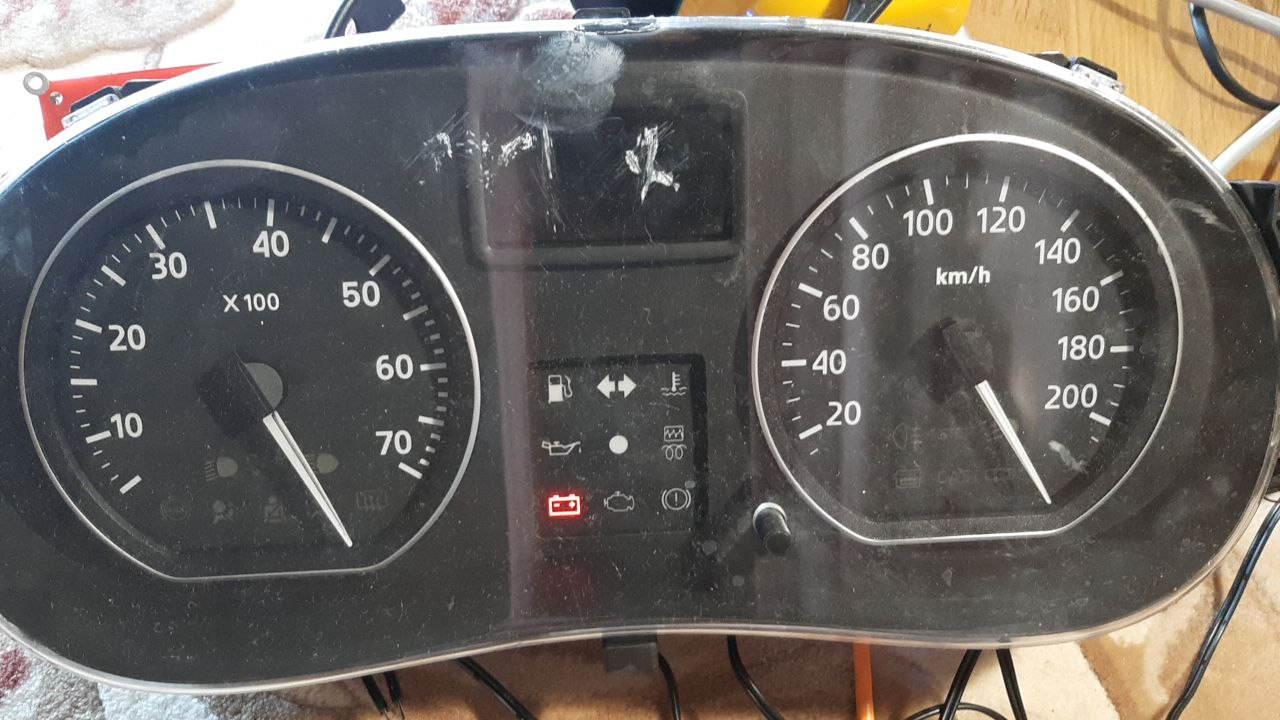accumulator: (544, 494, 583, 520)
